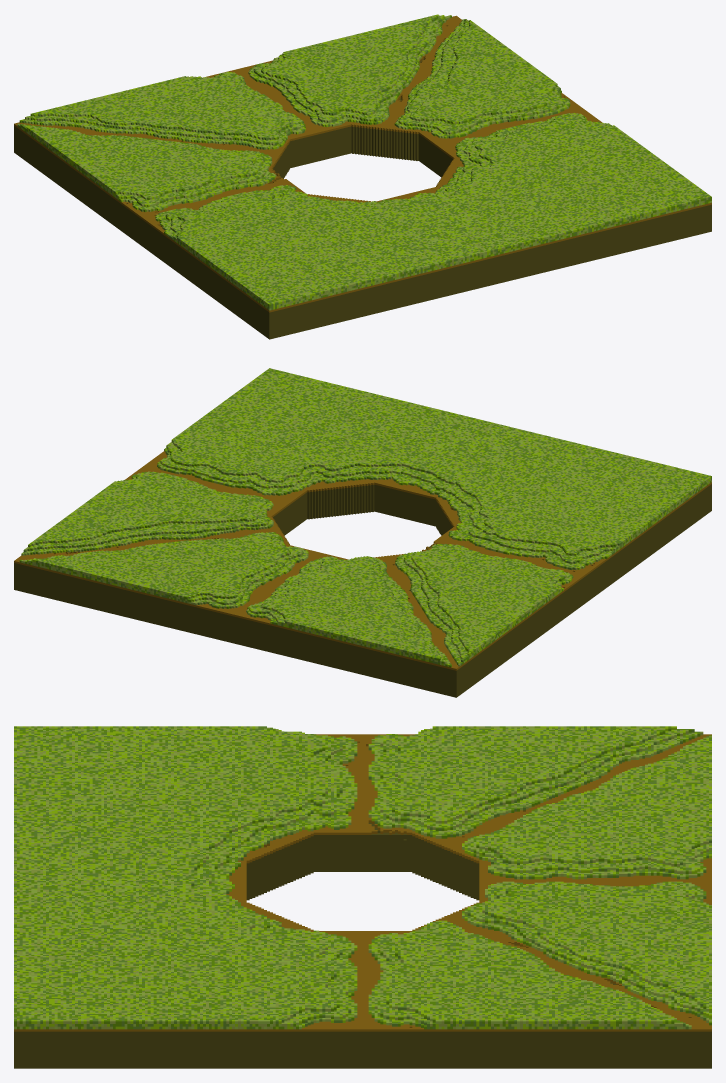
File: Tab A3-0.obj
3 views of the same model, one above another, from view 1: azimuth 30°, elevation 25°; view 2: azimuth 150°, elevation 25°; view 3: azimuth 270°, elevation 25° (orthographic). The views are drawn at different scales.
Bounding box in the file's own units: 24 × 1.8 × 24.
Materials: 1 (1 with a texture image).
